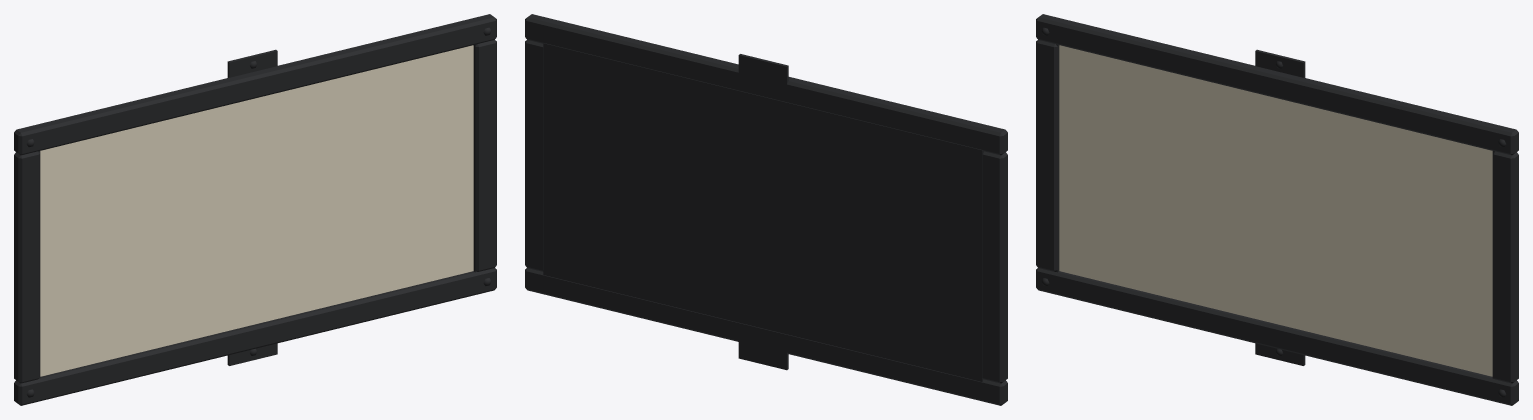
File: interlock_plate.glb
3 views of the same model, side by side, from view 1: azimuth 30°, elevation 25°; view 2: azimuth 150°, elevation 25°; view 3: azimuth 330°, elevation 25° (orthographic).
Parts seen in each view (by area): view 1: plate_image, interlock_plate; view 2: interlock_plate; view 3: plate_image, interlock_plate.
Part boxes in pixels (x1,y1,x2,y2): plate_image: [40, 45, 473, 376]; interlock_plate: [14, 14, 496, 405]; interlock_plate: [525, 14, 1007, 405]; plate_image: [1059, 45, 1492, 376]; interlock_plate: [1036, 14, 1518, 405].
Size of the model in its own units: 0.99 by 0.6 by 0.0307.
